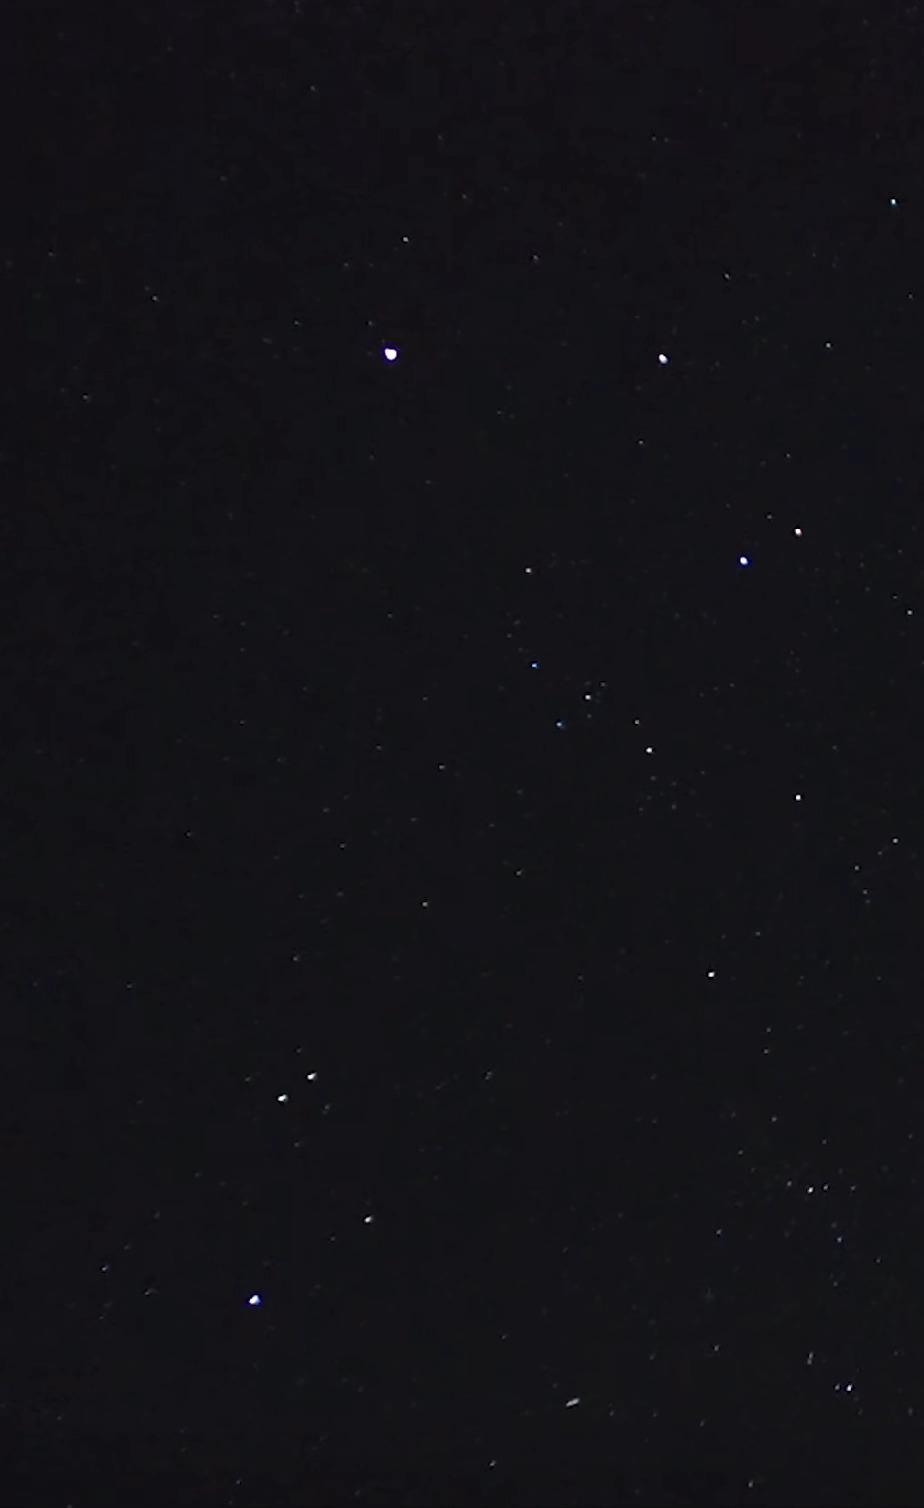meteorite: (555, 1395, 587, 1418)
